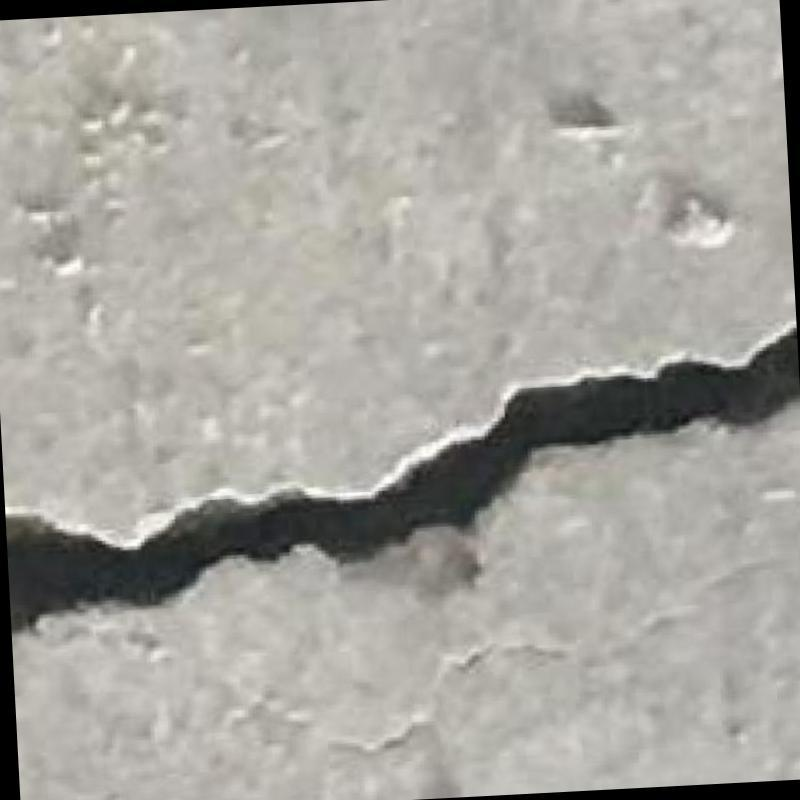pothole: (5, 325, 799, 632)
